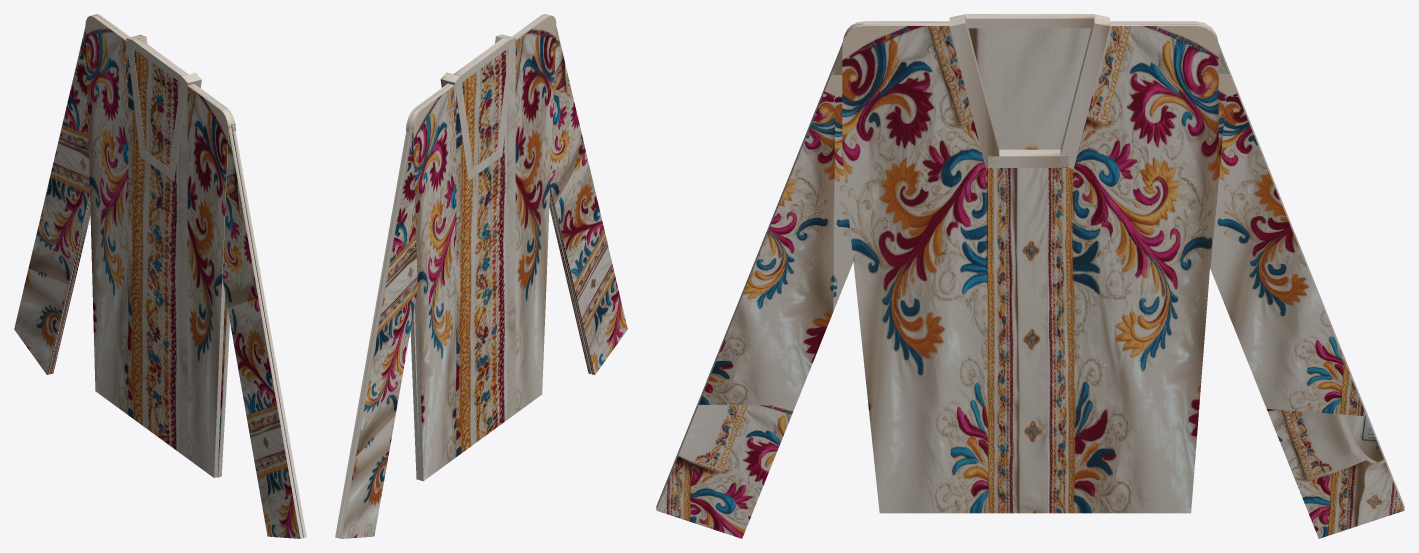
File: Guayabera1_2.obj
3 renders of one model, left to right at view 1: azimuth 30°, elevation 25°; view 2: azimuth 150°, elevation 25°; view 3: azimuth 270°, elevation 25°, orthographic. The views are drawn at different scales.
Visible parts, largest first — view 1: Guayabera1; view 2: Guayabera1; view 3: Guayabera1.
Part boxes in pixels (x1,y1,x2,y2): Guayabera1: (14, 14, 306, 538); Guayabera1: (335, 14, 627, 538); Guayabera1: (656, 14, 1404, 538).
Size of the model in its own units: 0.0201 by 0.5339 by 0.6959.
Materials: 1 (1 with a texture image).
